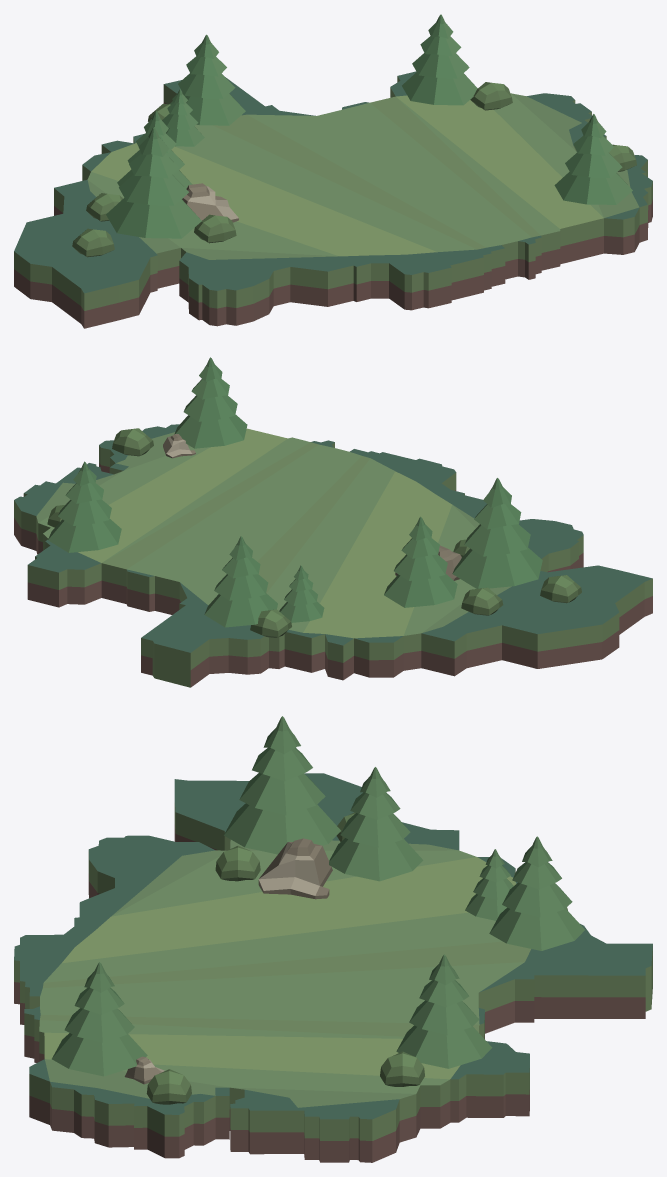
The model's file is aldan.gltf.
The picture shows the model from 3 angles, top to bottom: view 1: azimuth 30°, elevation 25°; view 2: azimuth 150°, elevation 25°; view 3: azimuth 270°, elevation 25°; orthographic projection. The views are drawn at different scales.
Visible parts, largest first — view 1: алдан; view 2: алдан; view 3: алдан.
Part boxes in pixels (box(x1,y1,x2,y2)): алдан: box(14, 14, 652, 328); алдан: box(14, 357, 652, 687); алдан: box(14, 716, 652, 1162).
Bounding box in the file's own units: 2.67 × 0.6276 × 2.08.
